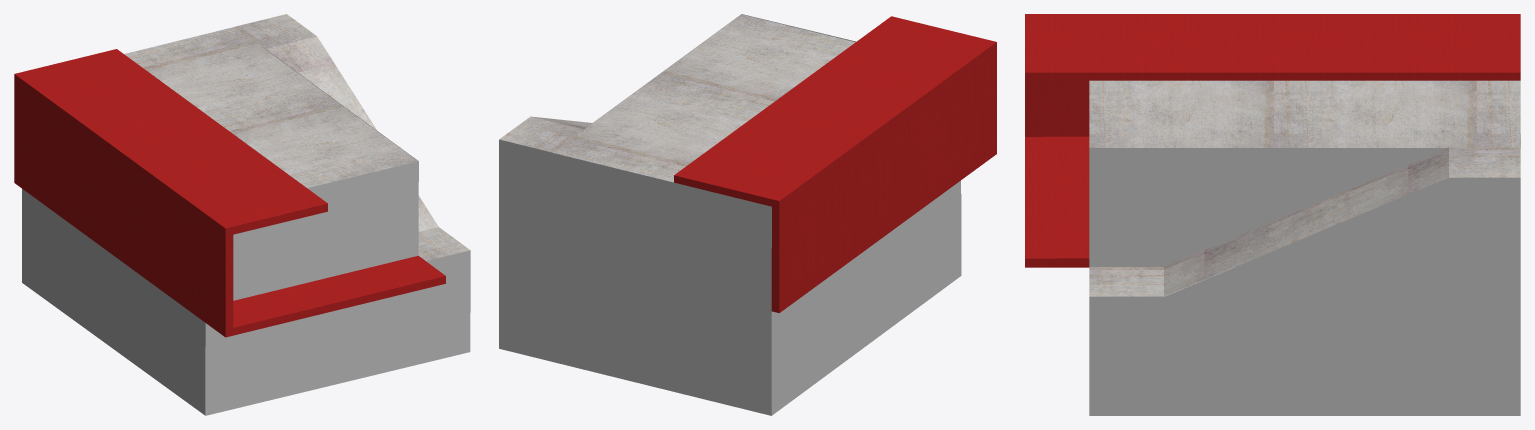
Rendered from House_base_FBX.fbx.
3 views of the same model, side by side, from view 1: azimuth 30°, elevation 25°; view 2: azimuth 150°, elevation 25°; view 3: azimuth 270°, elevation 25° (orthographic). The views are drawn at different scales.
Visible parts, largest first — view 1: p_roof_to_wall, p_wall_1, p_roof, p_wall_3, p_wall_balcony, p_balcony, p_roof_stairs; view 2: p_wall_2, p_roof_to_wall, p_roof, p_wall_3, p_roof_stairs; view 3: p_wall_5, p_roof_to_wall, p_roof, p_wall_4, p_wall_stairs, p_roof_stairs, p_balcony.
Part boxes in pixels (left/top/right/bottom): p_roof_to_wall: left=14, top=49, right=327, bottom=337; p_wall_1: left=205, top=250, right=470, bottom=415; p_roof: left=124, top=27, right=417, bottom=187; p_wall_3: left=22, top=189, right=205, bottom=415; p_wall_balcony: left=233, top=161, right=418, bottom=300; p_balcony: left=233, top=255, right=445, bottom=335; p_roof_stairs: left=234, top=14, right=469, bottom=260; p_wall_2: left=499, top=139, right=771, bottom=415; p_roof_to_wall: left=674, top=16, right=996, bottom=313; p_roof: left=553, top=14, right=855, bottom=182; p_wall_3: left=771, top=180, right=960, bottom=415; p_roof_stairs: left=499, top=116, right=591, bottom=152; p_wall_5: left=1089, top=296, right=1520, bottom=415; p_roof_to_wall: left=1025, top=14, right=1520, bottom=81; p_roof: left=1089, top=80, right=1520, bottom=147; p_wall_4: left=1089, top=148, right=1448, bottom=266; p_wall_stairs: left=1165, top=177, right=1520, bottom=296; p_roof_stairs: left=1089, top=147, right=1520, bottom=296; p_balcony: left=1025, top=82, right=1089, bottom=267.
Size of the model in its own units: 13.68 by 10.11 by 18.39.
